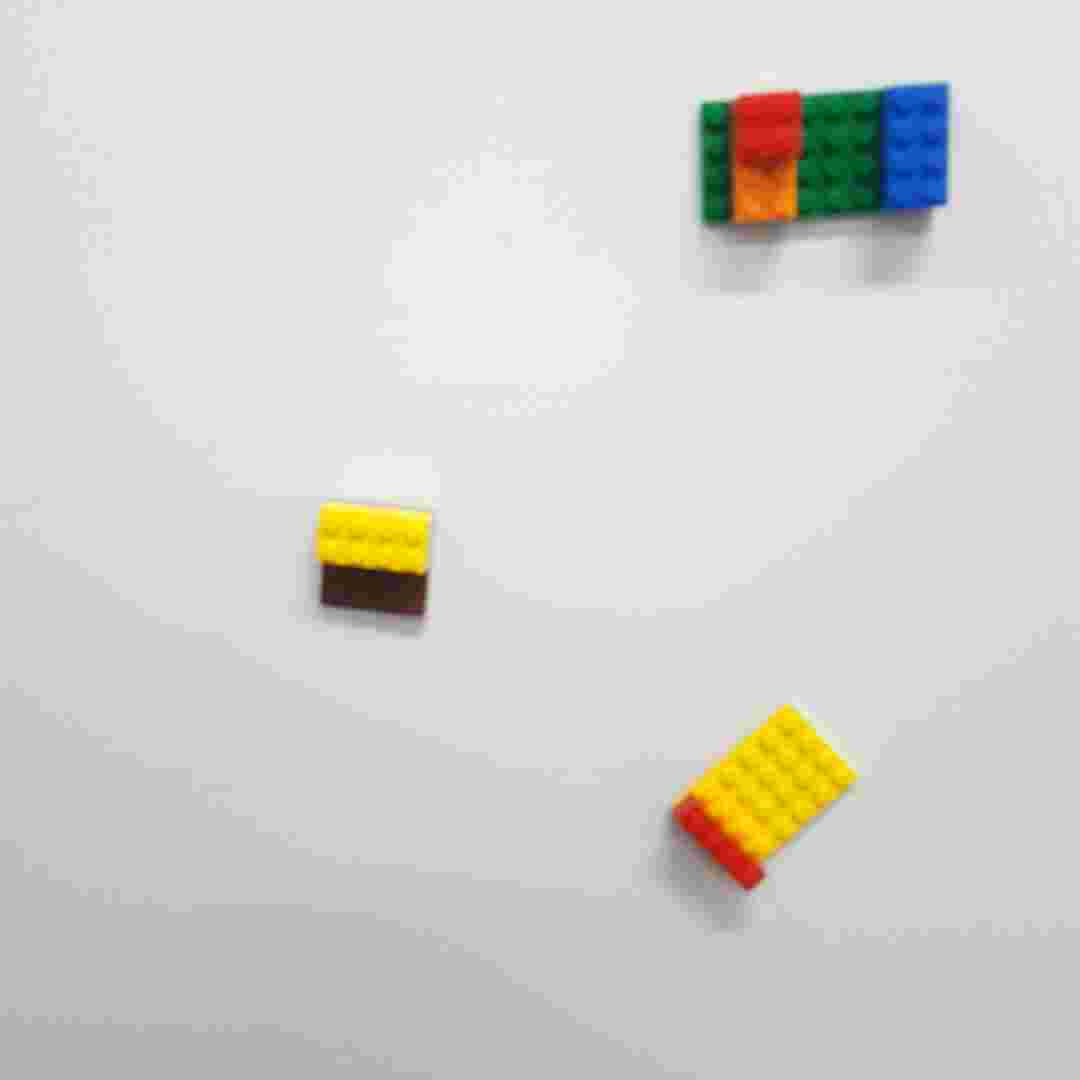LEGO: (691, 74, 960, 238), (662, 702, 864, 893), (310, 500, 437, 621)
